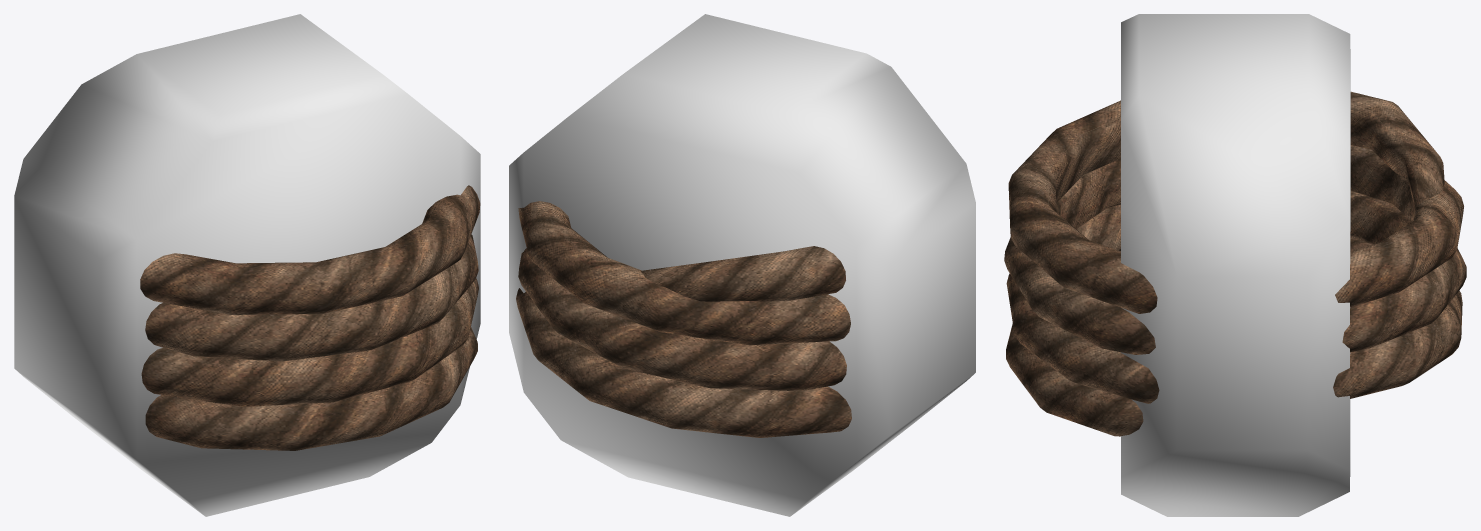
The model's file is SM_Rope_B.fbx.
3 views of the same model, side by side, from view 1: azimuth 30°, elevation 25°; view 2: azimuth 150°, elevation 25°; view 3: azimuth 270°, elevation 25° (orthographic). The views are drawn at different scales.
Visible parts, largest first — view 1: SM_Rope_B_ConvexHulls, SM_Rope_B; view 2: SM_Rope_B_ConvexHulls, SM_Rope_B; view 3: SM_Rope_B_ConvexHulls, SM_Rope_B.
Part boxes in pixels (x1,y1,x2,y2): SM_Rope_B_ConvexHulls: [14, 14, 480, 516]; SM_Rope_B: [140, 185, 480, 450]; SM_Rope_B_ConvexHulls: [509, 14, 975, 516]; SM_Rope_B: [516, 201, 851, 437]; SM_Rope_B_ConvexHulls: [1121, 14, 1350, 516]; SM_Rope_B: [1004, 91, 1466, 436].
Size of the model in its own units: 0.3579 by 0.3579 by 0.3559.
